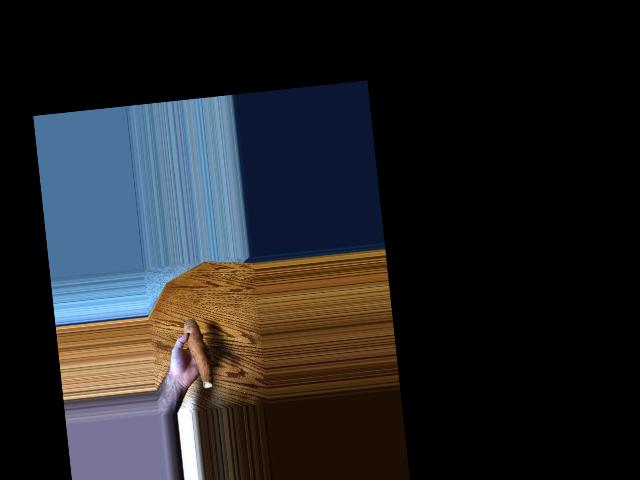sweet_potato: (185, 313, 213, 387)
